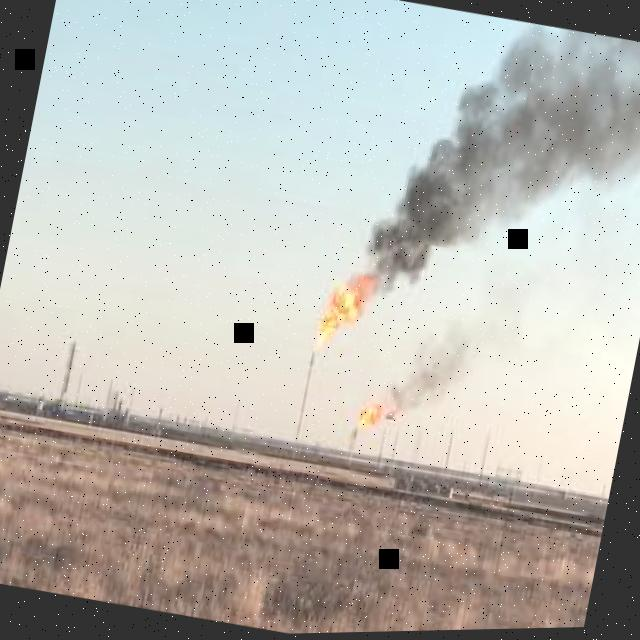fire: (315, 273, 376, 358), (354, 403, 384, 429)
smoke: (364, 28, 640, 310), (390, 262, 532, 415)
